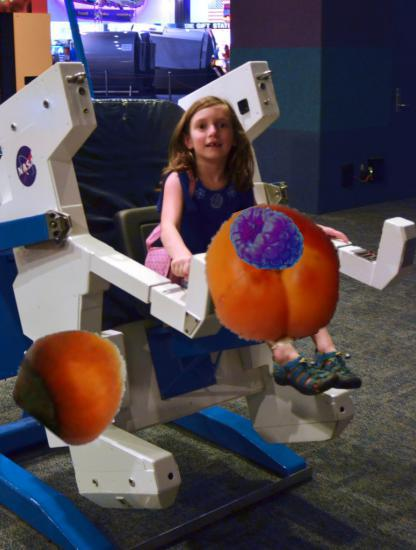Apricot: (204, 203, 346, 345)
Nut: (17, 324, 131, 438)
Raspberry: (228, 199, 306, 277)
